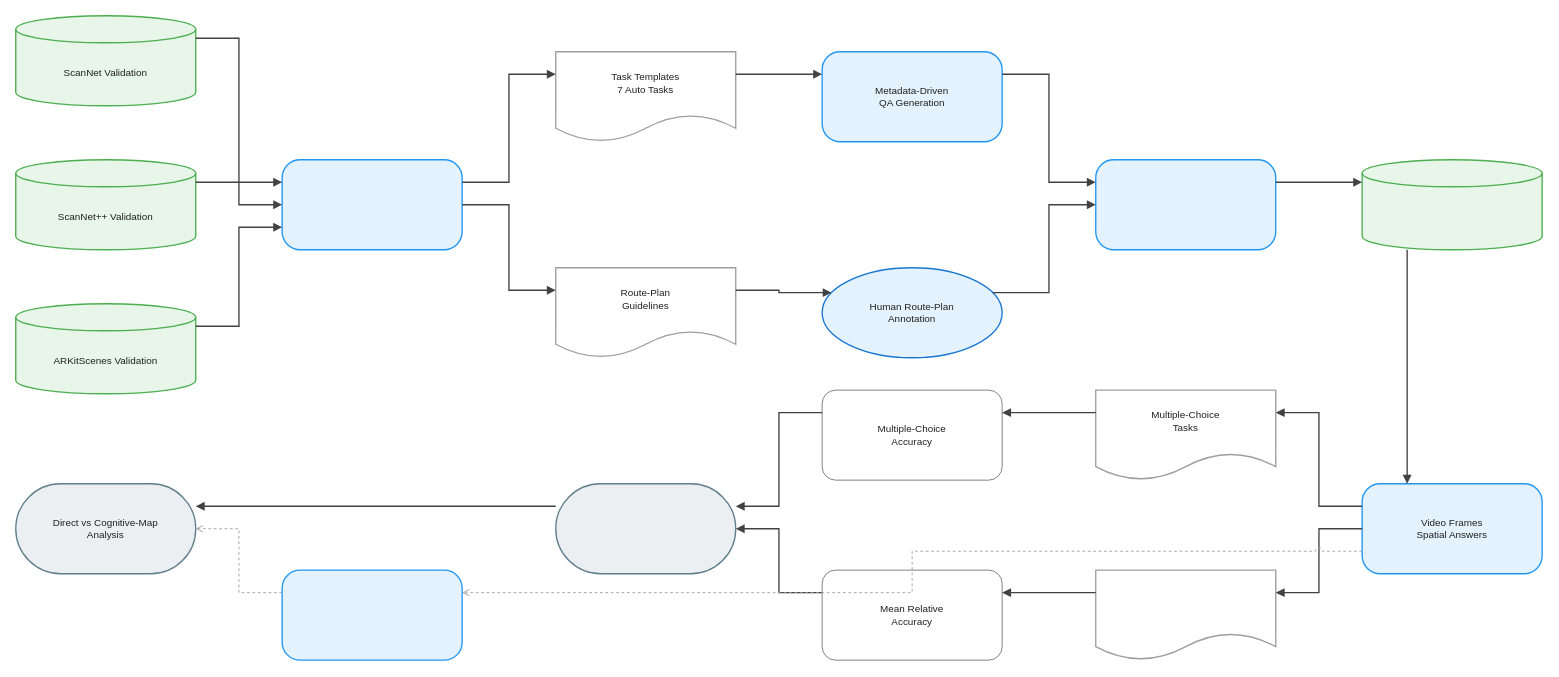
Some shapes in this 1559 by 677 pixel diagram are drawn without their labels. Each missing label, with the centre of its shape:
"288 Videos · >5K QA 8 Tasks" belongs at (x=1451, y=204).
"Cognitive-Map Prompt Intervention" belongs at (x=371, y=614).
"Eight-Task Score Report" belongs at (x=645, y=528).
"Iterative Human-in-Loop Trace + Repair" belongs at (x=1185, y=204).
"Numerical-Answer Tasks" belongs at (x=1185, y=614).
"Unified Categories 3D Boxes + Video Meta" belongs at (x=371, y=204).
